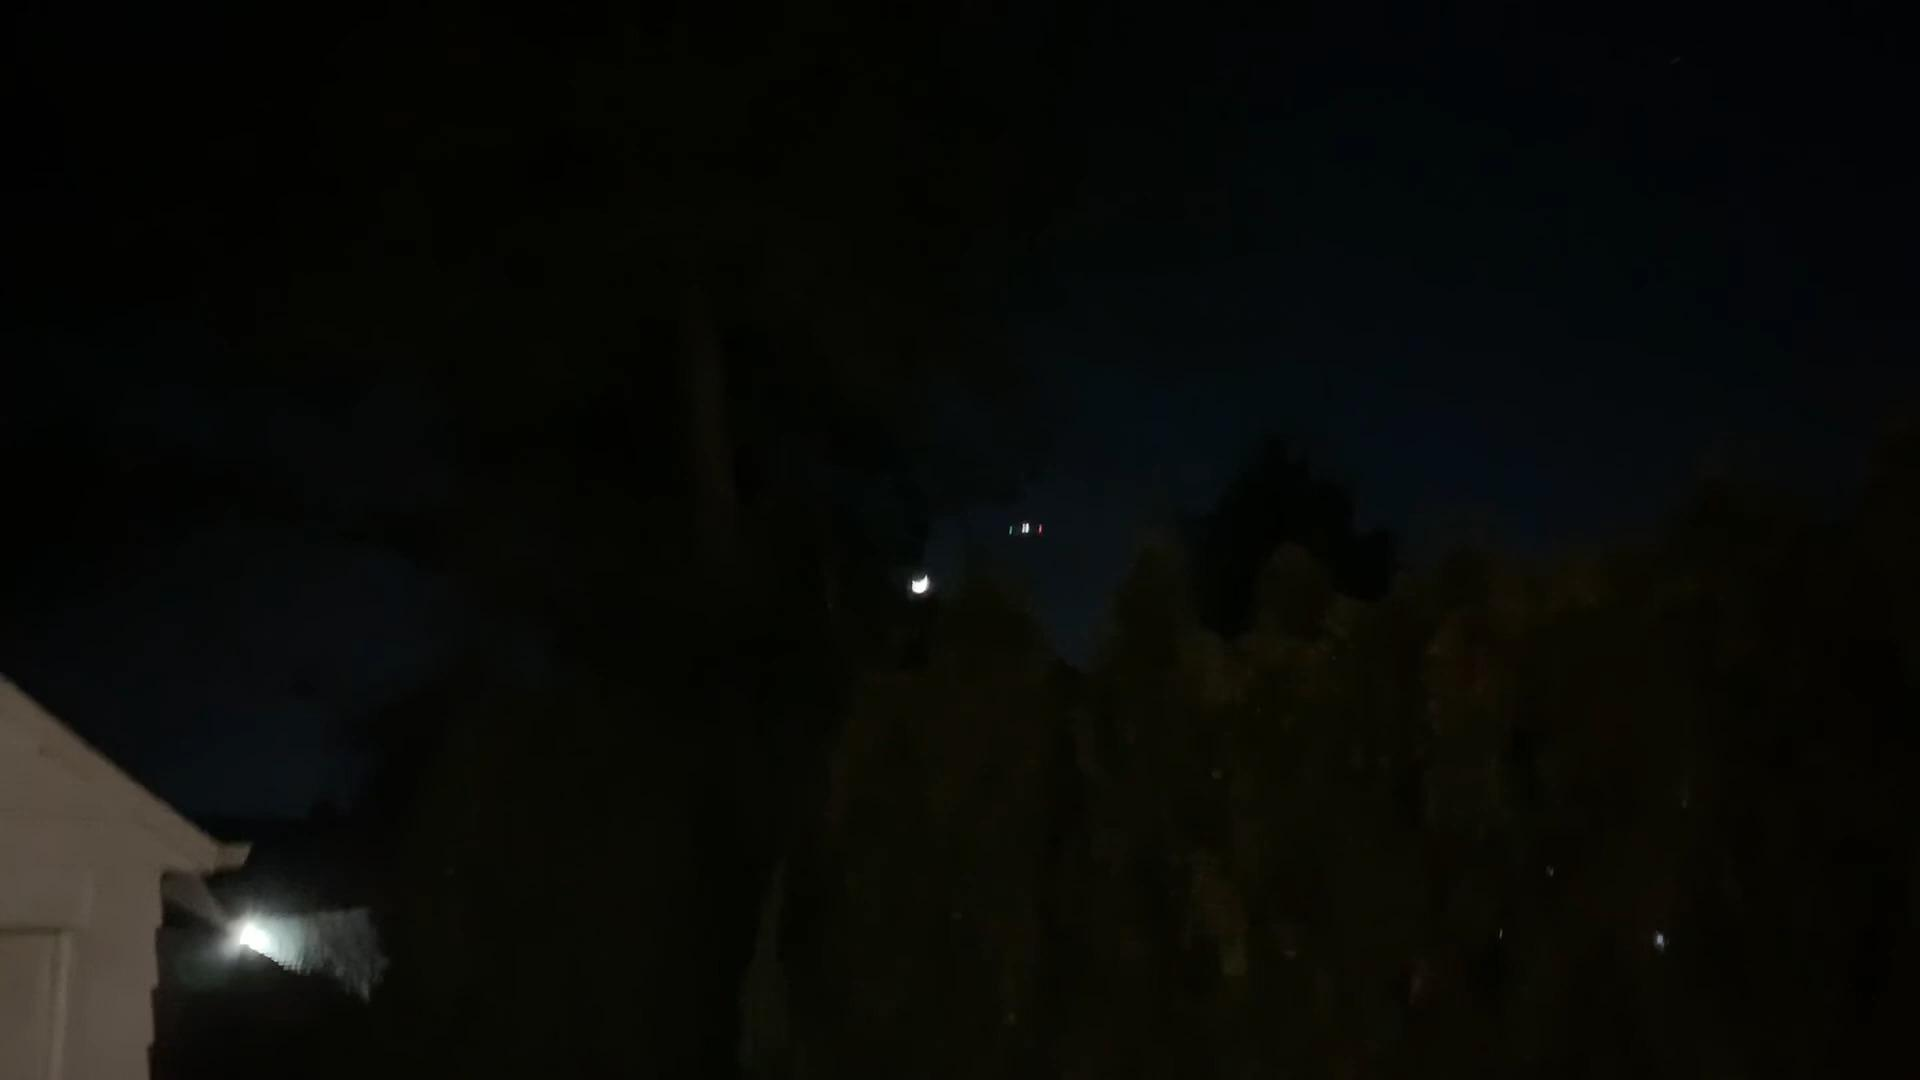Plane: (988, 495, 1071, 555)
